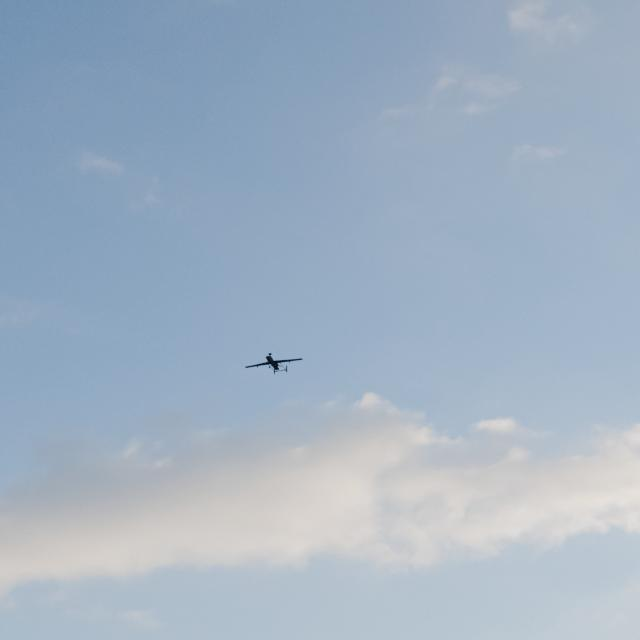Airaplan: (245, 353, 303, 375)
